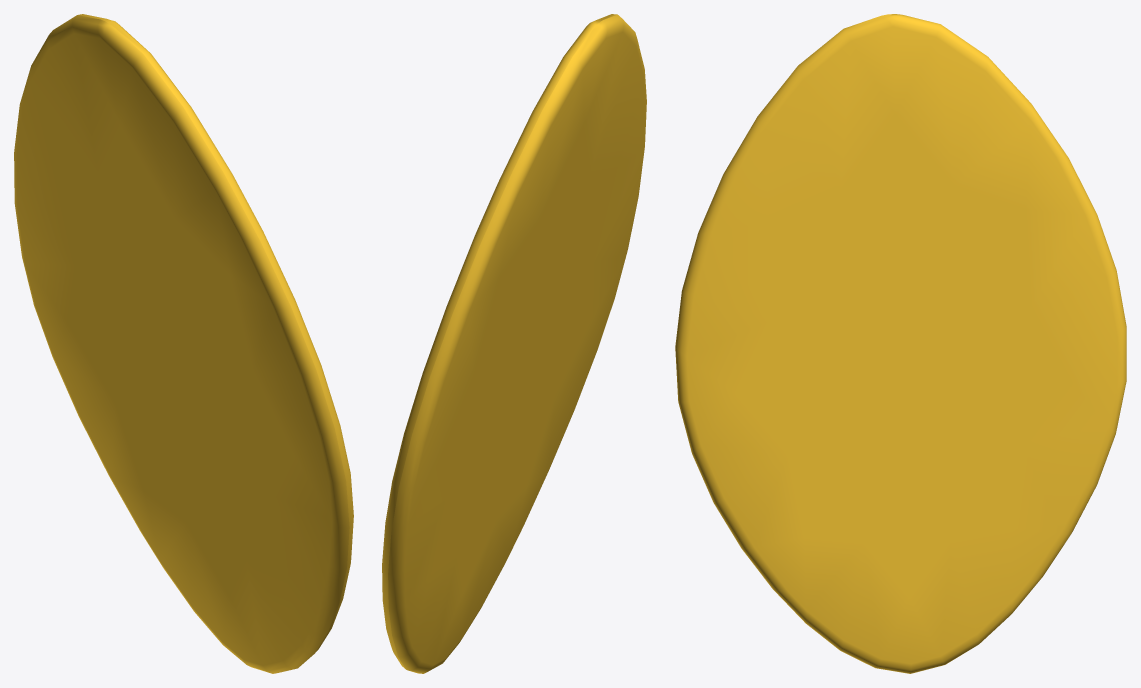
Rendered from fallLeaf_13.glb.
3 views of the same model, side by side, from view 1: azimuth 30°, elevation 25°; view 2: azimuth 150°, elevation 25°; view 3: azimuth 270°, elevation 25° (orthographic). The views are drawn at different scales.
Visible parts, largest first — view 1: Leaf_YellowGreen_Wide.212; view 2: Leaf_YellowGreen_Wide.212; view 3: Leaf_YellowGreen_Wide.212.
Boxes of the visible parts, x1,y1,x2,y2 form: Leaf_YellowGreen_Wide.212: (14,14,353,673); Leaf_YellowGreen_Wide.212: (382,14,646,673); Leaf_YellowGreen_Wide.212: (675,14,1126,673).
Size of the model in its own units: 0.5654 by 2.1 by 1.45.
